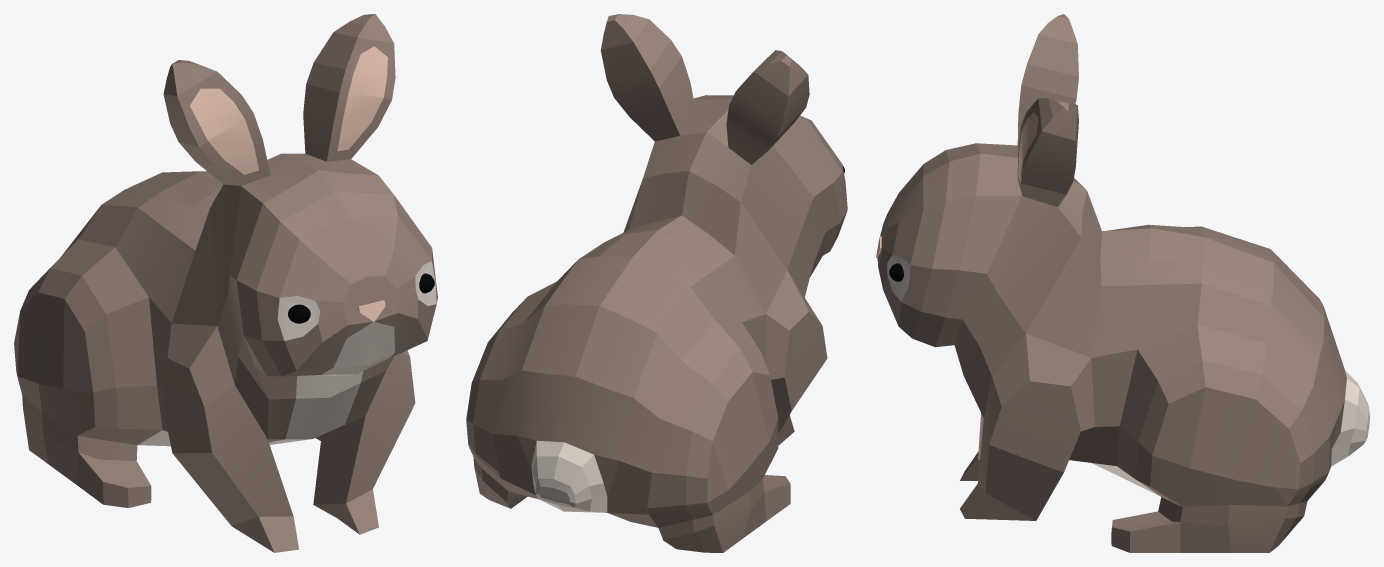
File: Rabbit_Semi_Smooth.fbx
3 views of the same model, side by side, from view 1: azimuth 30°, elevation 25°; view 2: azimuth 150°, elevation 25°; view 3: azimuth 270°, elevation 25° (orthographic). The views are drawn at different scales.
Visible parts, largest first — view 1: Plane; view 2: Plane; view 3: Plane.
Boxes of the visible parts, bbox=[...] form: Plane: bbox=[14, 14, 437, 552]; Plane: bbox=[466, 14, 847, 552]; Plane: bbox=[876, 14, 1369, 552].
Size of the model in its own units: 85.36 by 132 by 135.
